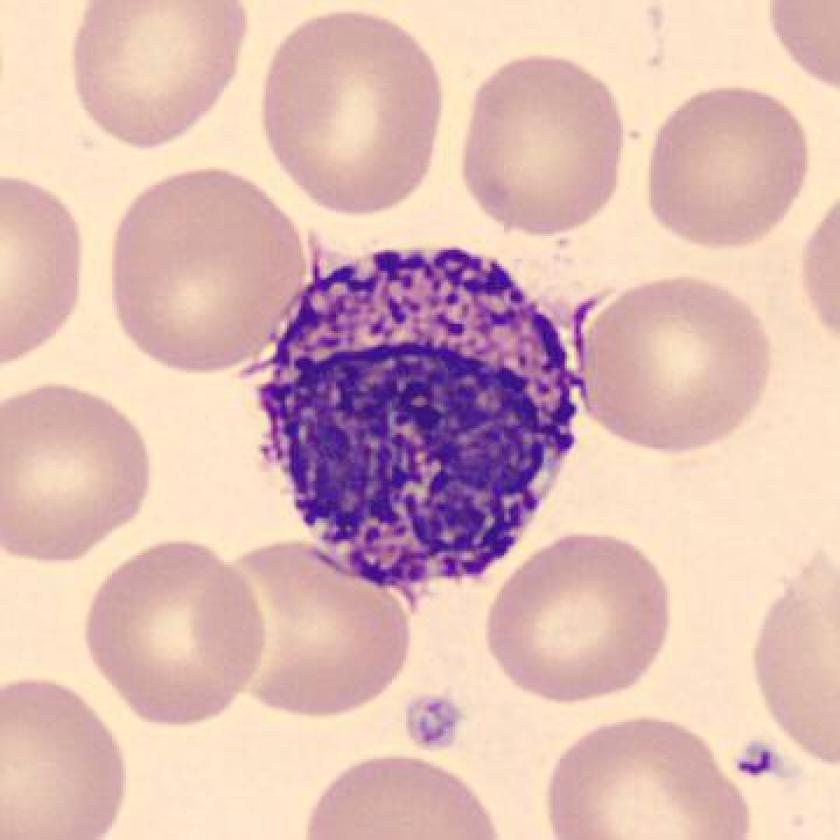basophil: (267, 249, 580, 596)
